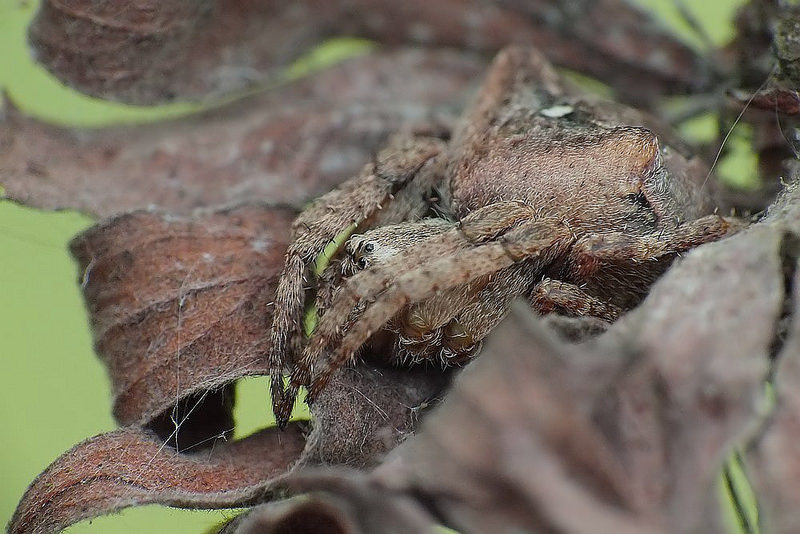spider: (222, 33, 751, 441)
